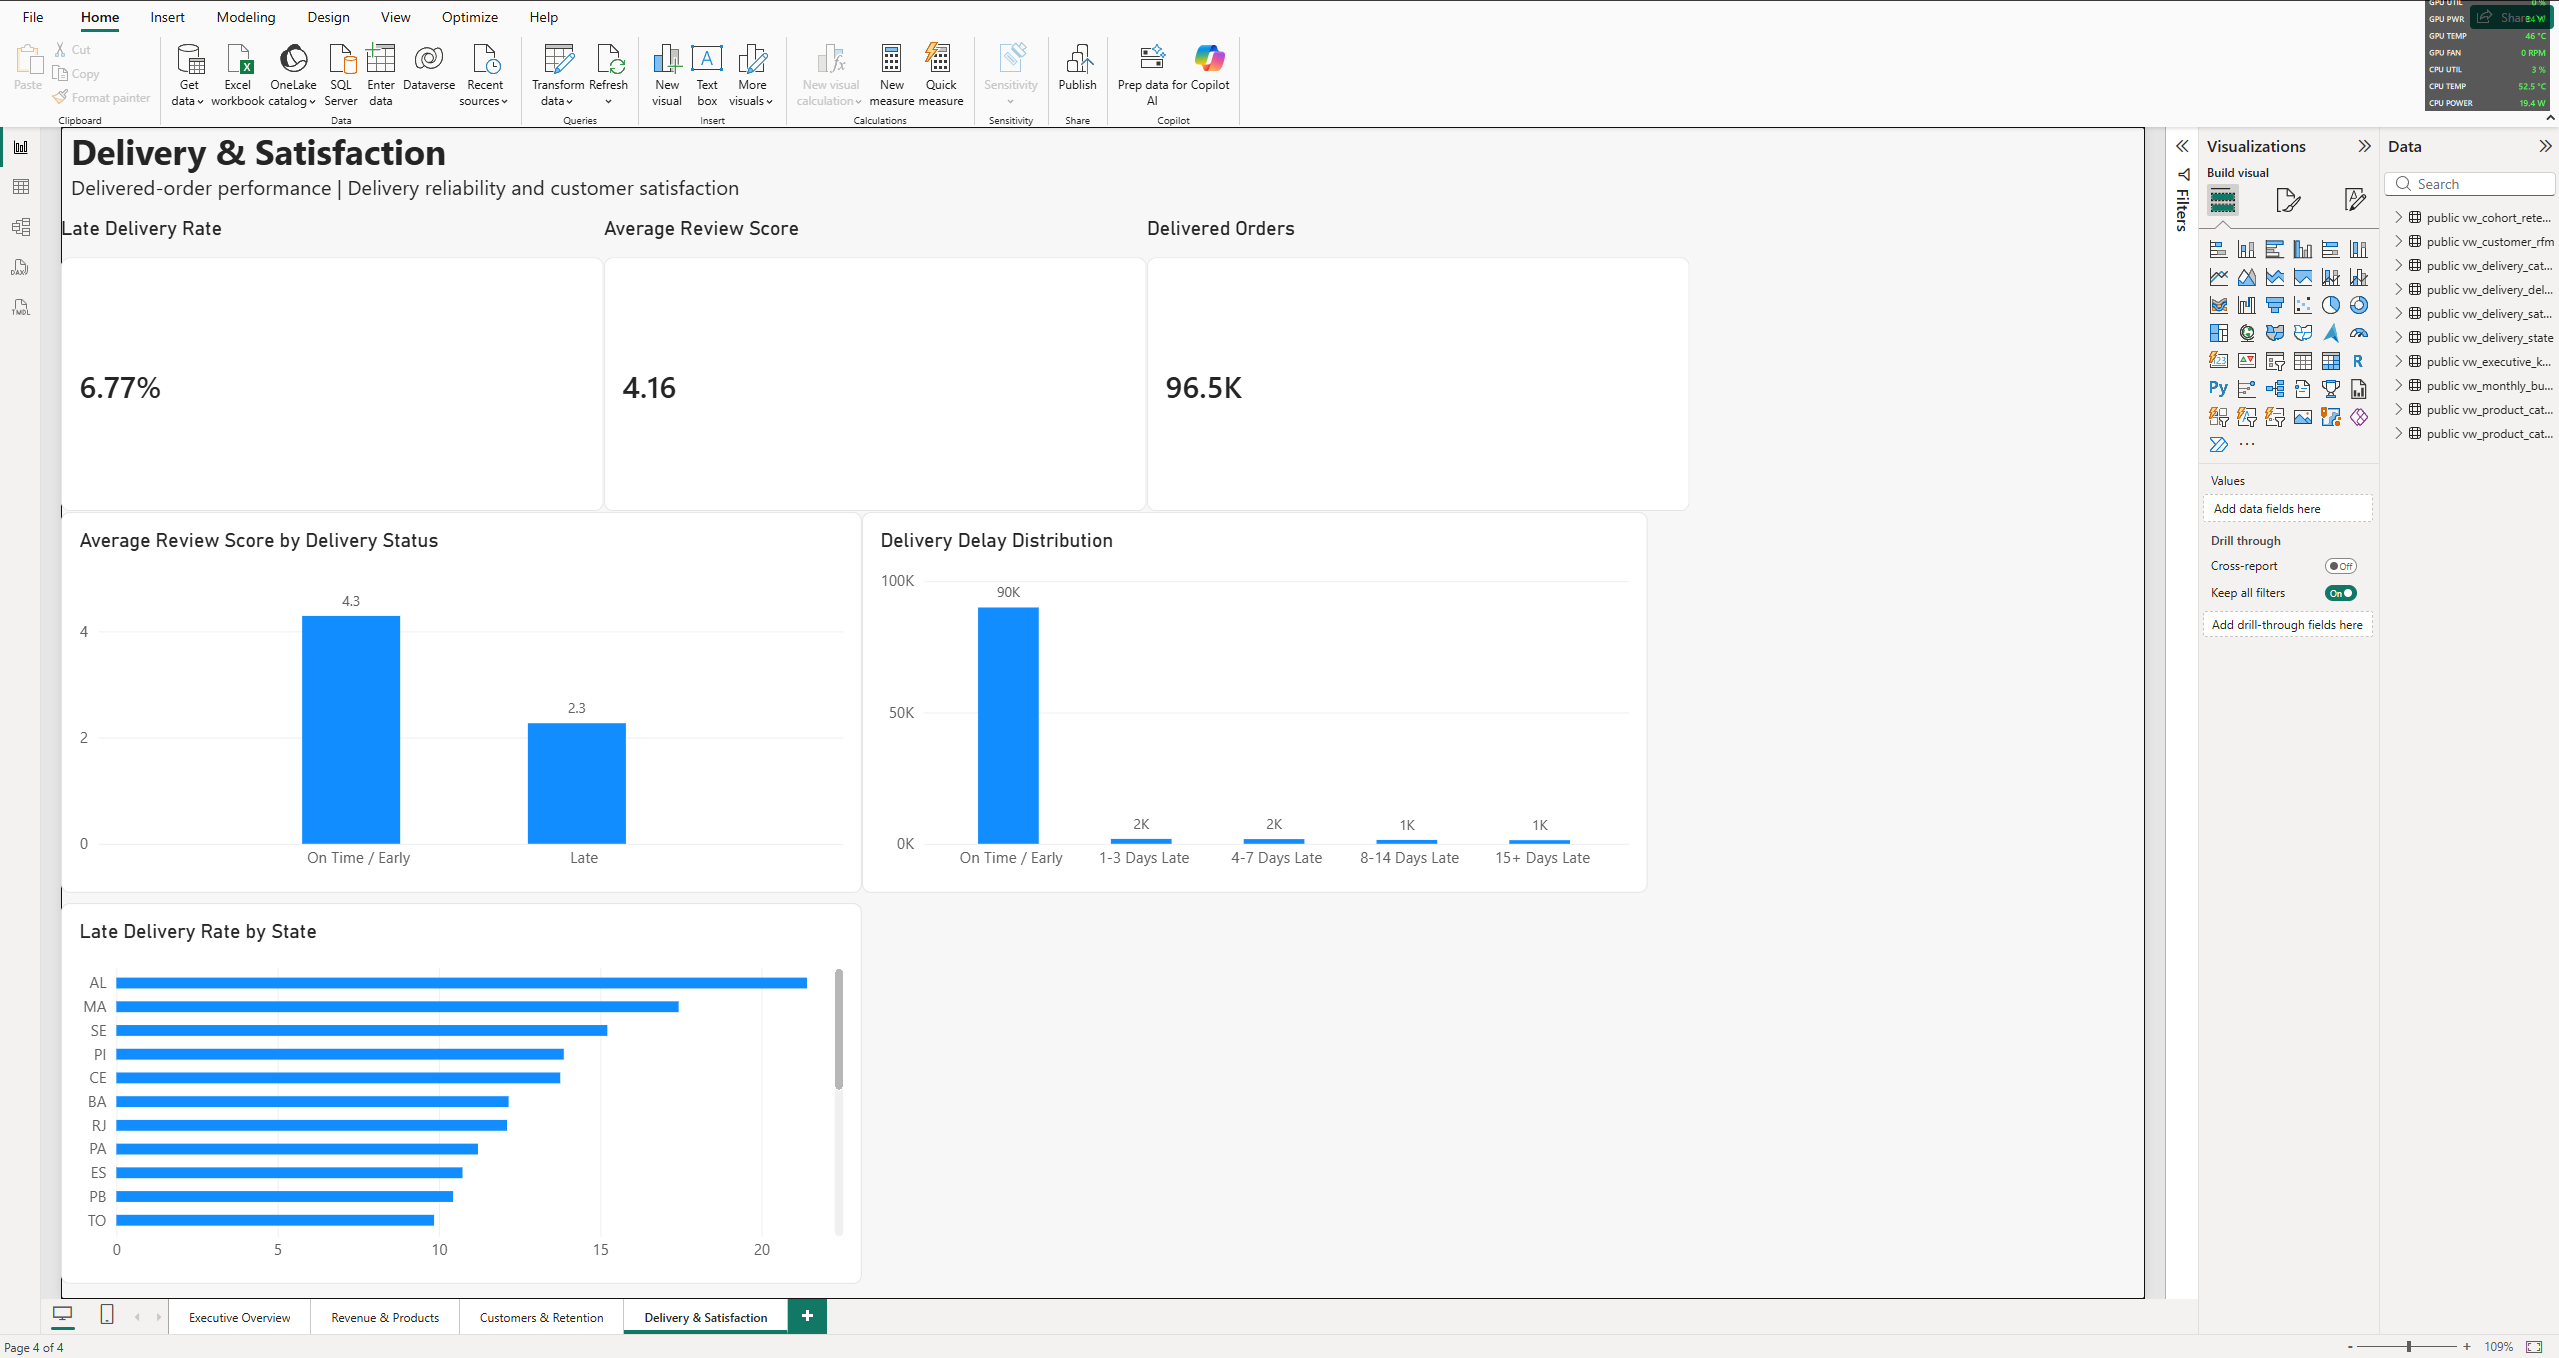

The page's visual inventory and layout, read from the dashboard file:
{"tool":"powerbi","page":{"name":"Delivery & Satisfaction","canvas":[1920,1080],"ordinal":3},"visuals":[{"type":"textbox","box":[9.2,0,714.5,105.2],"z":0},{"type":"cardVisual","title":"Late Delivery Rate","fields":{"Data":["public vw_executive_kpis.Late Delivery Rate Display"]},"box":[0,83.1,500,271.4],"z":1000},{"type":"cardVisual","title":"Average Review Score","fields":{"Data":["Sum(public vw_executive_kpis.average_review_score)"]},"box":[500.3,83.1,500,271.4],"z":2000},{"type":"cardVisual","title":"Delivered Orders","fields":{"Data":["Sum(public vw_executive_kpis.delivered_orders)"]},"box":[1000.6,83.1,500,271],"z":3000},{"type":"clusteredColumnChart","title":"Average Review Score by Delivery Status","fields":{"Category":["public vw_delivery_satisfaction.delivery_status"],"Y":["Sum(public vw_delivery_satisfaction.average_review_score)"]},"box":[0,354.5,738.5,350.8],"z":4000},{"type":"clusteredColumnChart","title":"Delivery Delay Distribution","fields":{"Category":["public vw_delivery_delay_buckets.delay_bucket"],"Y":["Sum(public vw_delivery_delay_buckets.orders)"]},"box":[738.5,354.5,723.7,350.8],"z":5000},{"type":"clusteredBarChart","title":"Late Delivery Rate by State","fields":{"Category":["public vw_delivery_state.customer_state"],"Y":["Sum(public vw_delivery_state.late_delivery_rate_pct)"]},"box":[0,715,738,351],"z":6000}]}

Visuals, with their boxes on the page's 1920x1080 design canvas (x1, y1, x2, y2). These are canvas units, not pixel positions in the 2559x1358 screenshot, which may show the page scaled, cropped or inside an application window:
textbox: detection(9, 0, 724, 105)
"Late Delivery Rate" cardVisual: detection(0, 83, 500, 354)
"Average Review Score" cardVisual: detection(500, 83, 1000, 354)
"Delivered Orders" cardVisual: detection(1001, 83, 1501, 354)
"Average Review Score by Delivery Status" clusteredColumnChart: detection(0, 354, 738, 705)
"Delivery Delay Distribution" clusteredColumnChart: detection(738, 354, 1462, 705)
"Late Delivery Rate by State" clusteredBarChart: detection(0, 715, 738, 1066)
